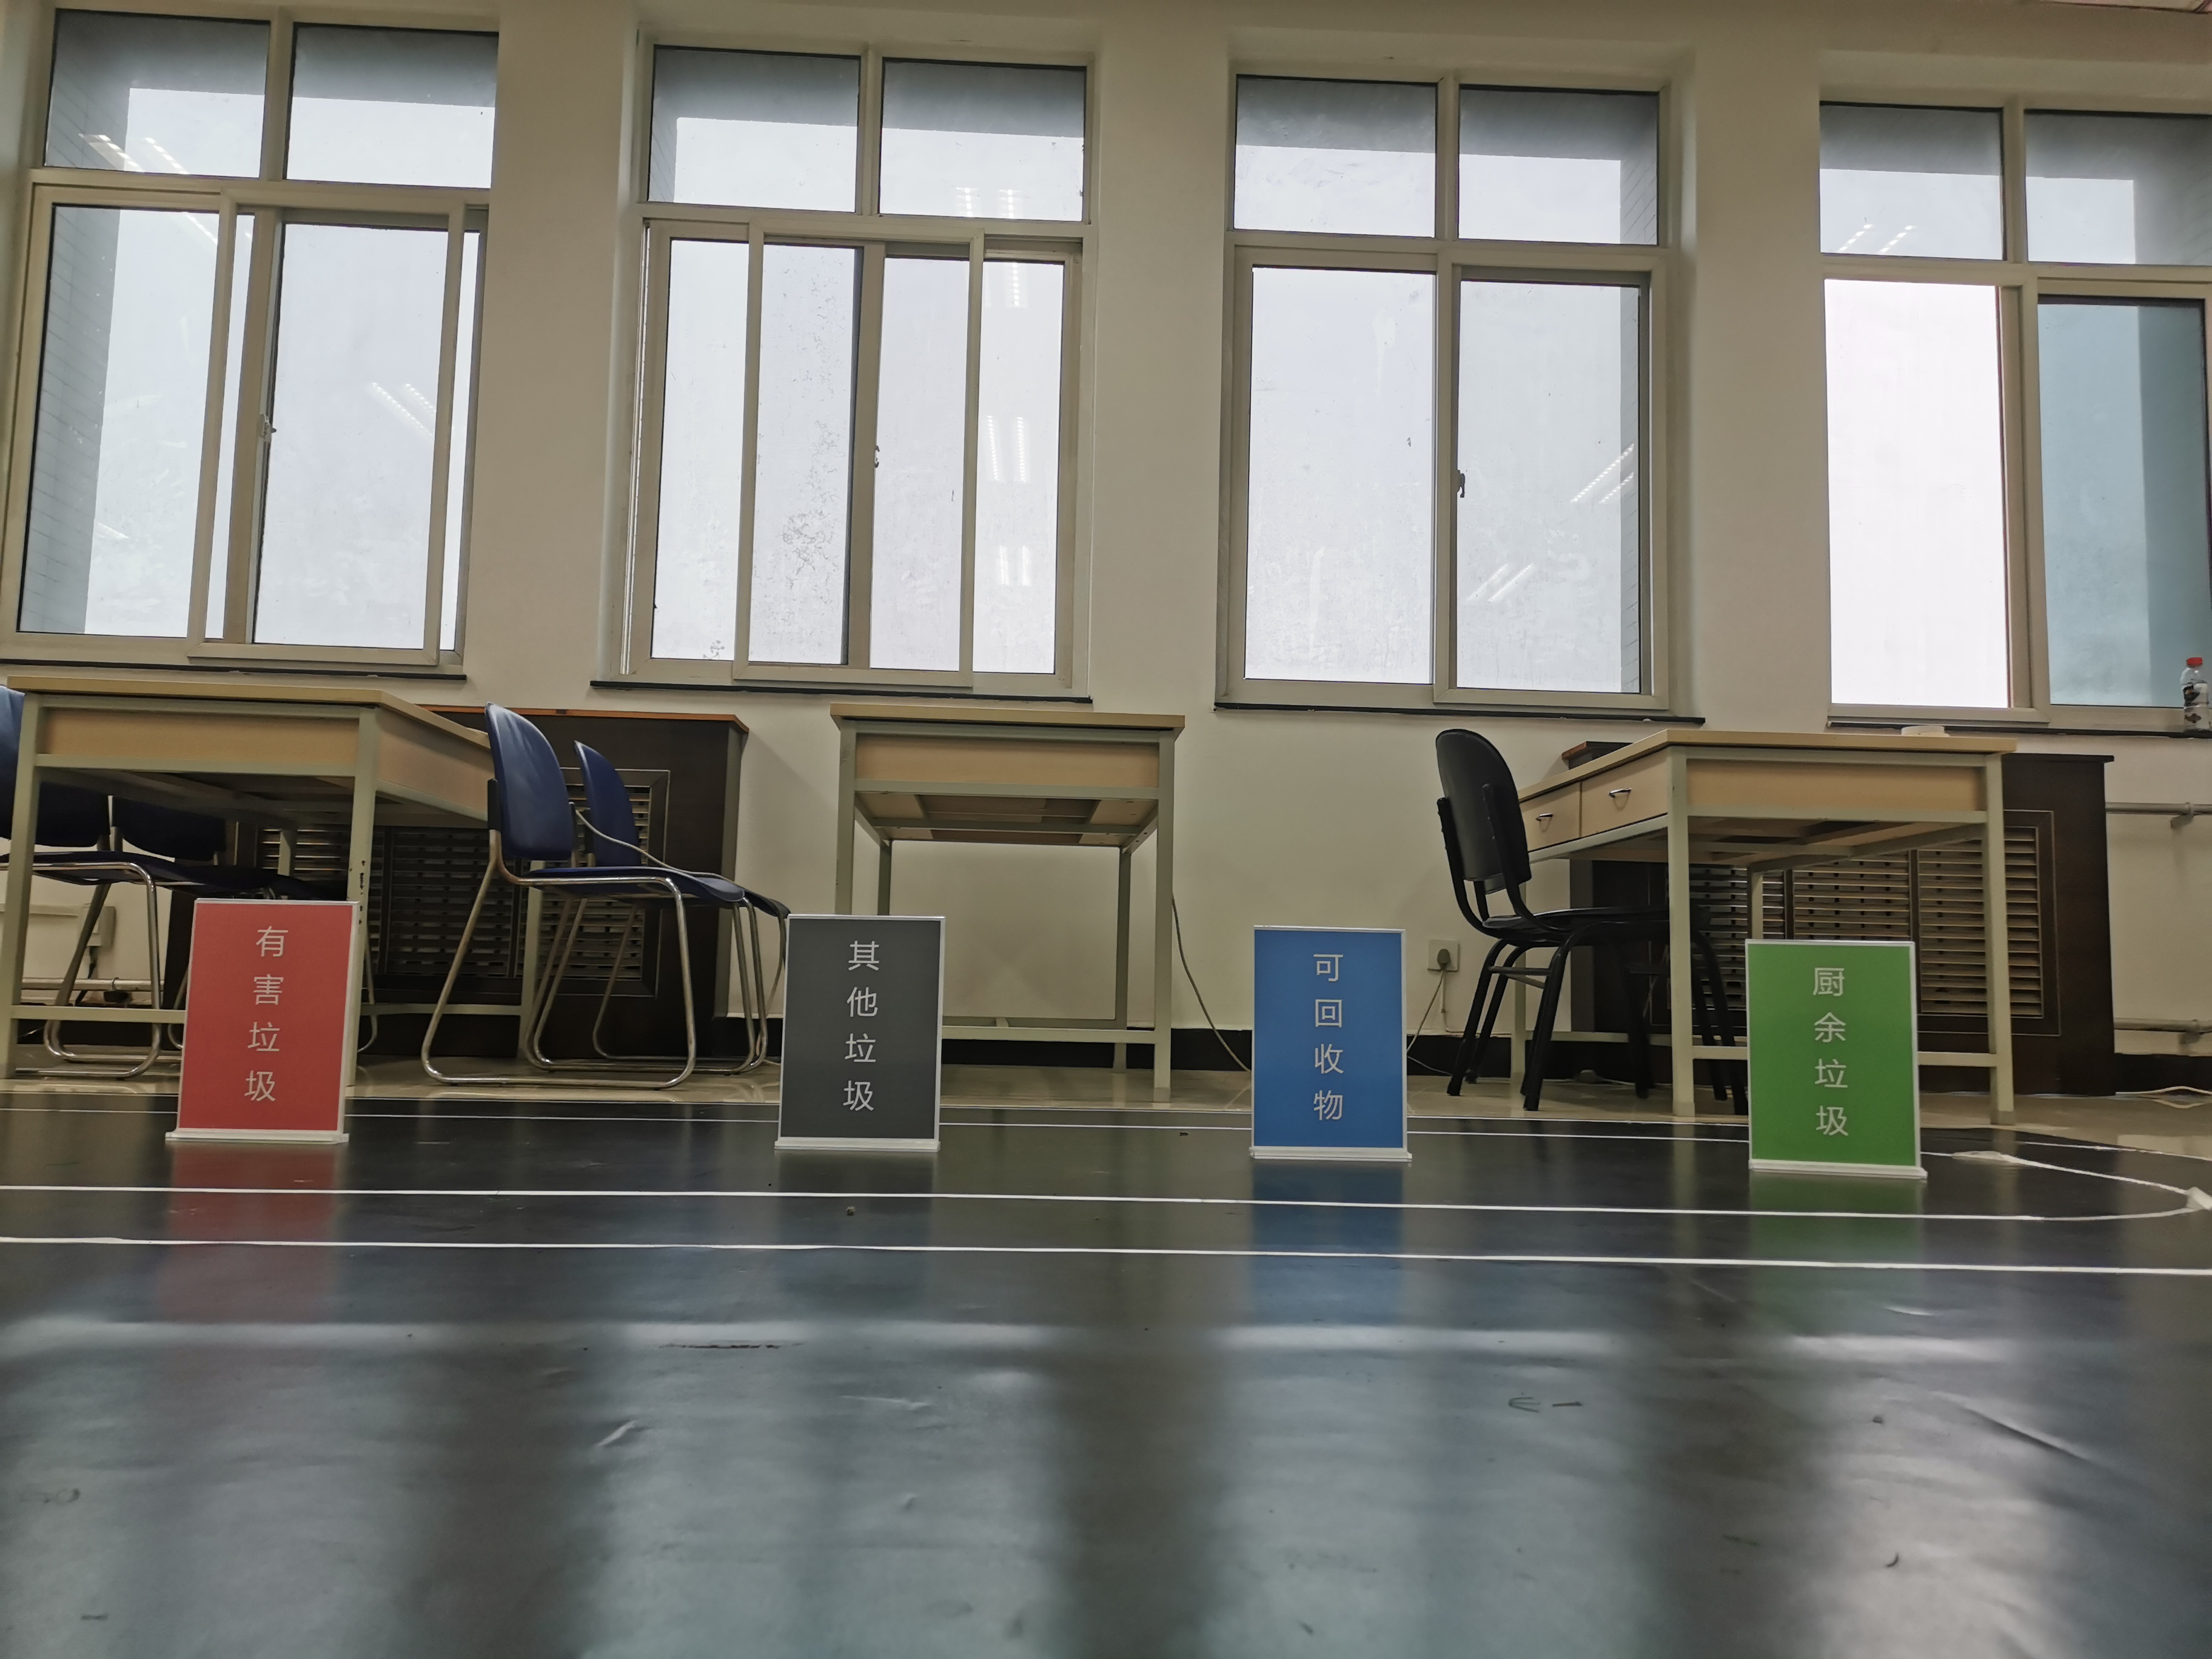black: (791, 925, 932, 1134)
blue: (1259, 939, 1395, 1143)
green: (1752, 950, 1914, 1154)
red: (200, 911, 333, 1124)
